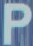Parking: (1, 1, 32, 44)
